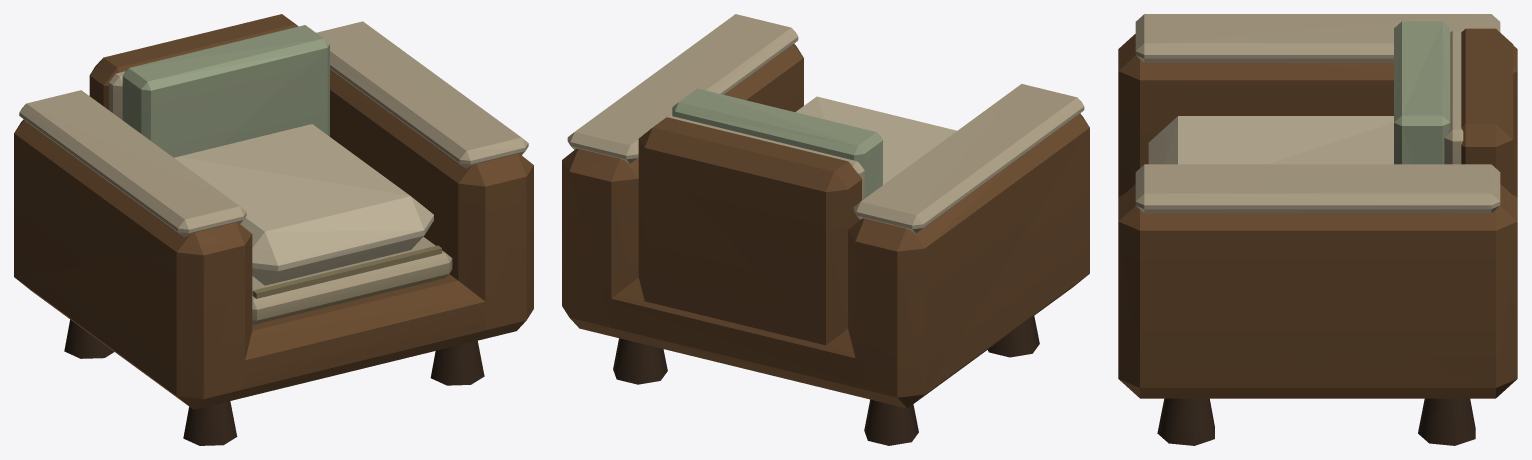
The model's file is armchair.glb.
3 views of the same model, side by side, from view 1: azimuth 30°, elevation 25°; view 2: azimuth 150°, elevation 25°; view 3: azimuth 270°, elevation 25° (orthographic). The views are drawn at different scales.
Parts seen in each view (by area): view 1: armchair; view 2: armchair; view 3: armchair.
Boxes of the visible parts, bbox=[...] form: armchair: bbox=[14, 14, 533, 445]; armchair: bbox=[562, 14, 1089, 445]; armchair: bbox=[1118, 14, 1517, 445].
Size of the model in its own units: 1.04 by 0.76 by 0.92.
